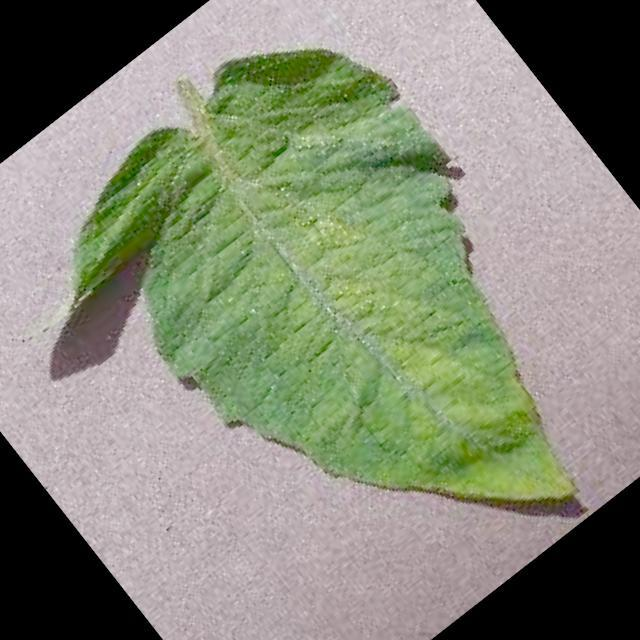Tomato spider mites leaf: (14, 0, 640, 640)
